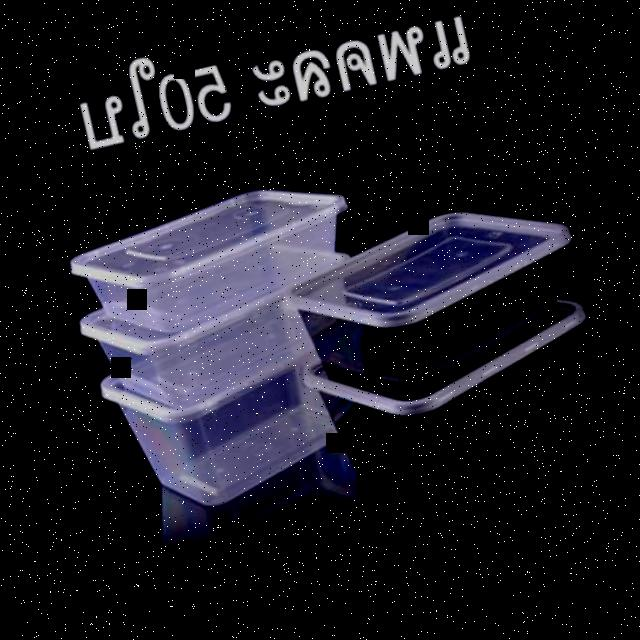plastic_box: (62, 169, 364, 352)
